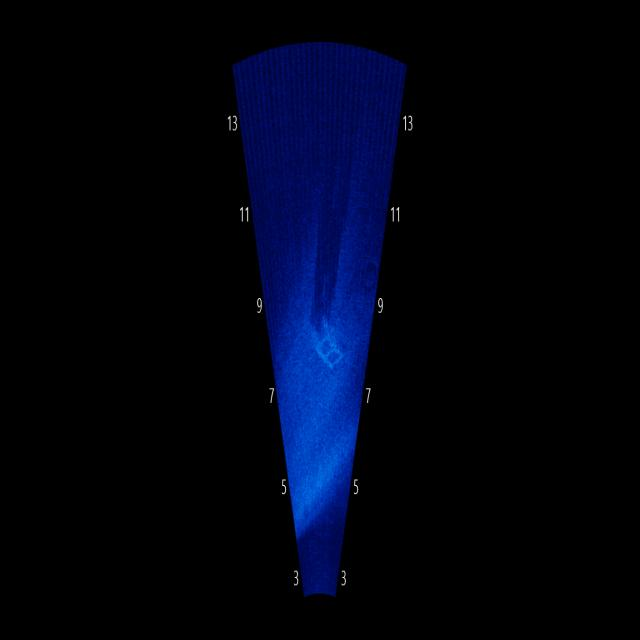square: (306, 297, 349, 385)
